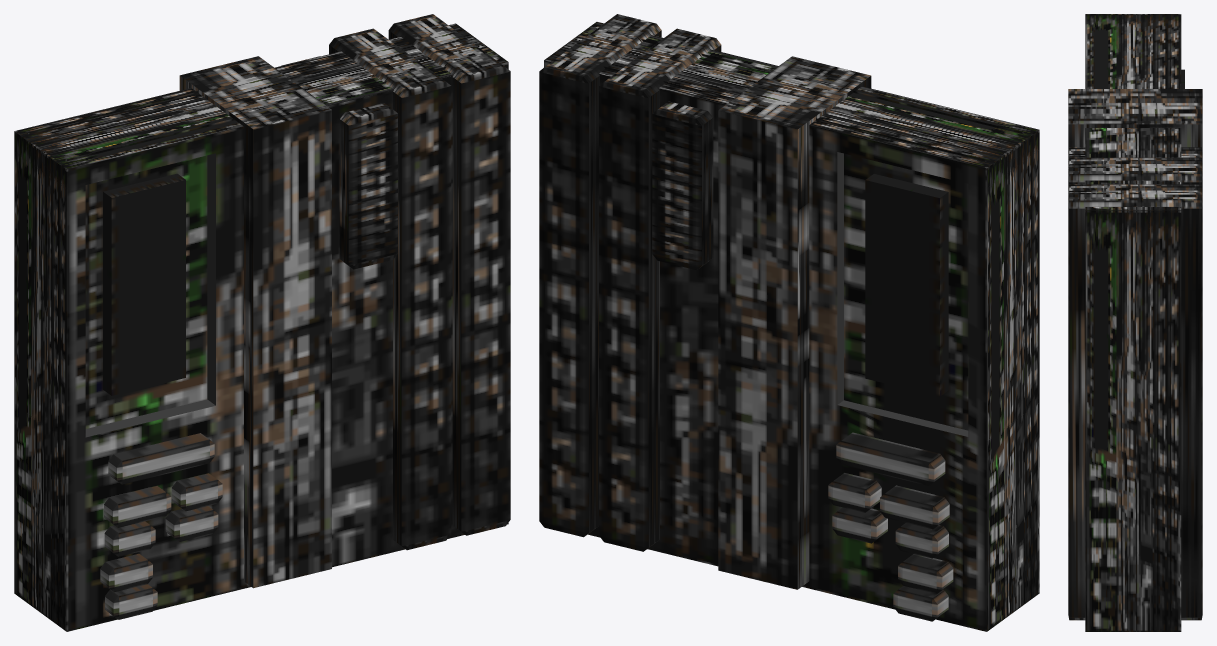
Rendered from Wall2.fbx.
3 renders of one model, left to right at view 1: azimuth 30°, elevation 25°; view 2: azimuth 150°, elevation 25°; view 3: azimuth 270°, elevation 25°, orthographic. The views are drawn at different scales.
Parts seen in each view (by area): view 1: Wall2_LOD0; view 2: Wall2_LOD0; view 3: Wall2_LOD0.
Boxes of the visible parts, x1=… form: Wall2_LOD0: x1=14, y1=14, x2=510, y2=631; Wall2_LOD0: x1=539, y1=14, x2=1039, y2=631; Wall2_LOD0: x1=1068, y1=14, x2=1202, y2=631.
Size of what is drawn, in the model's own units: 204 by 206 by 58.92.
